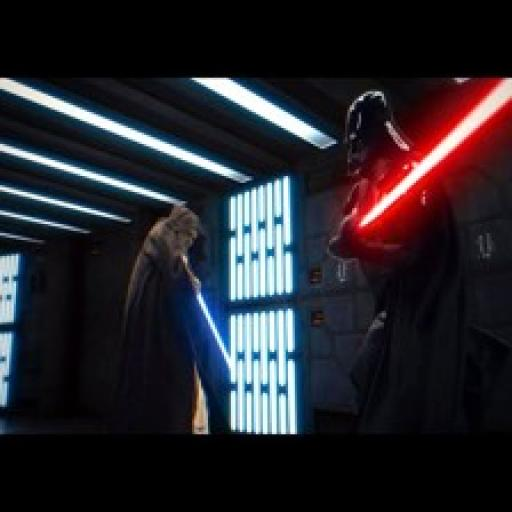lightsaber: (187, 277, 242, 374)
sith saber: (326, 76, 510, 267)
